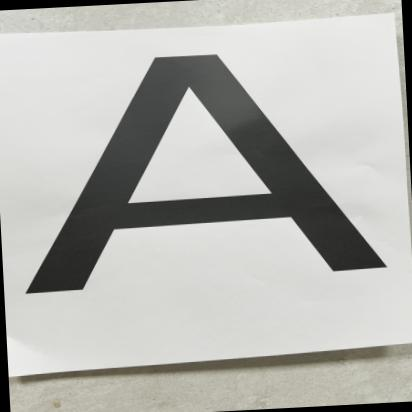seat: (37, 39, 382, 296)
